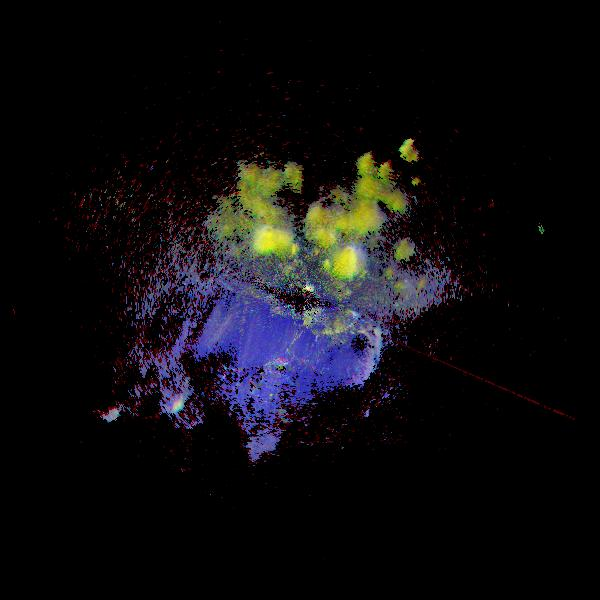roost: (140, 363, 194, 417), (79, 375, 130, 426)
